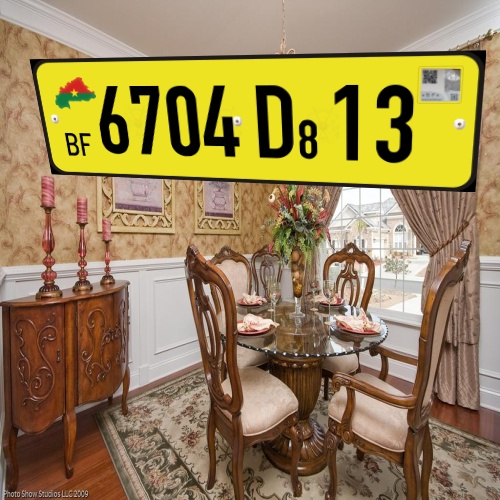plate: (18, 40, 490, 205)
